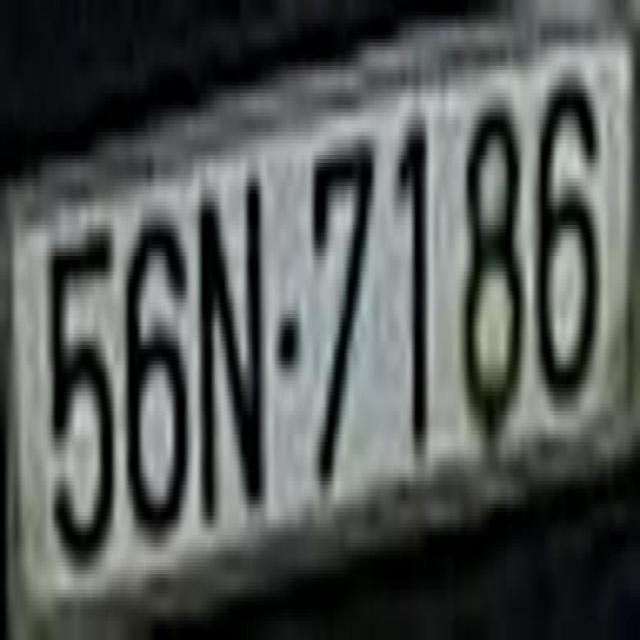1: (396, 120, 433, 466)
5: (48, 217, 114, 570)
6: (537, 85, 600, 446), (125, 210, 188, 554)
7: (309, 147, 376, 489)
8: (463, 113, 523, 473)
N: (197, 159, 263, 543)
